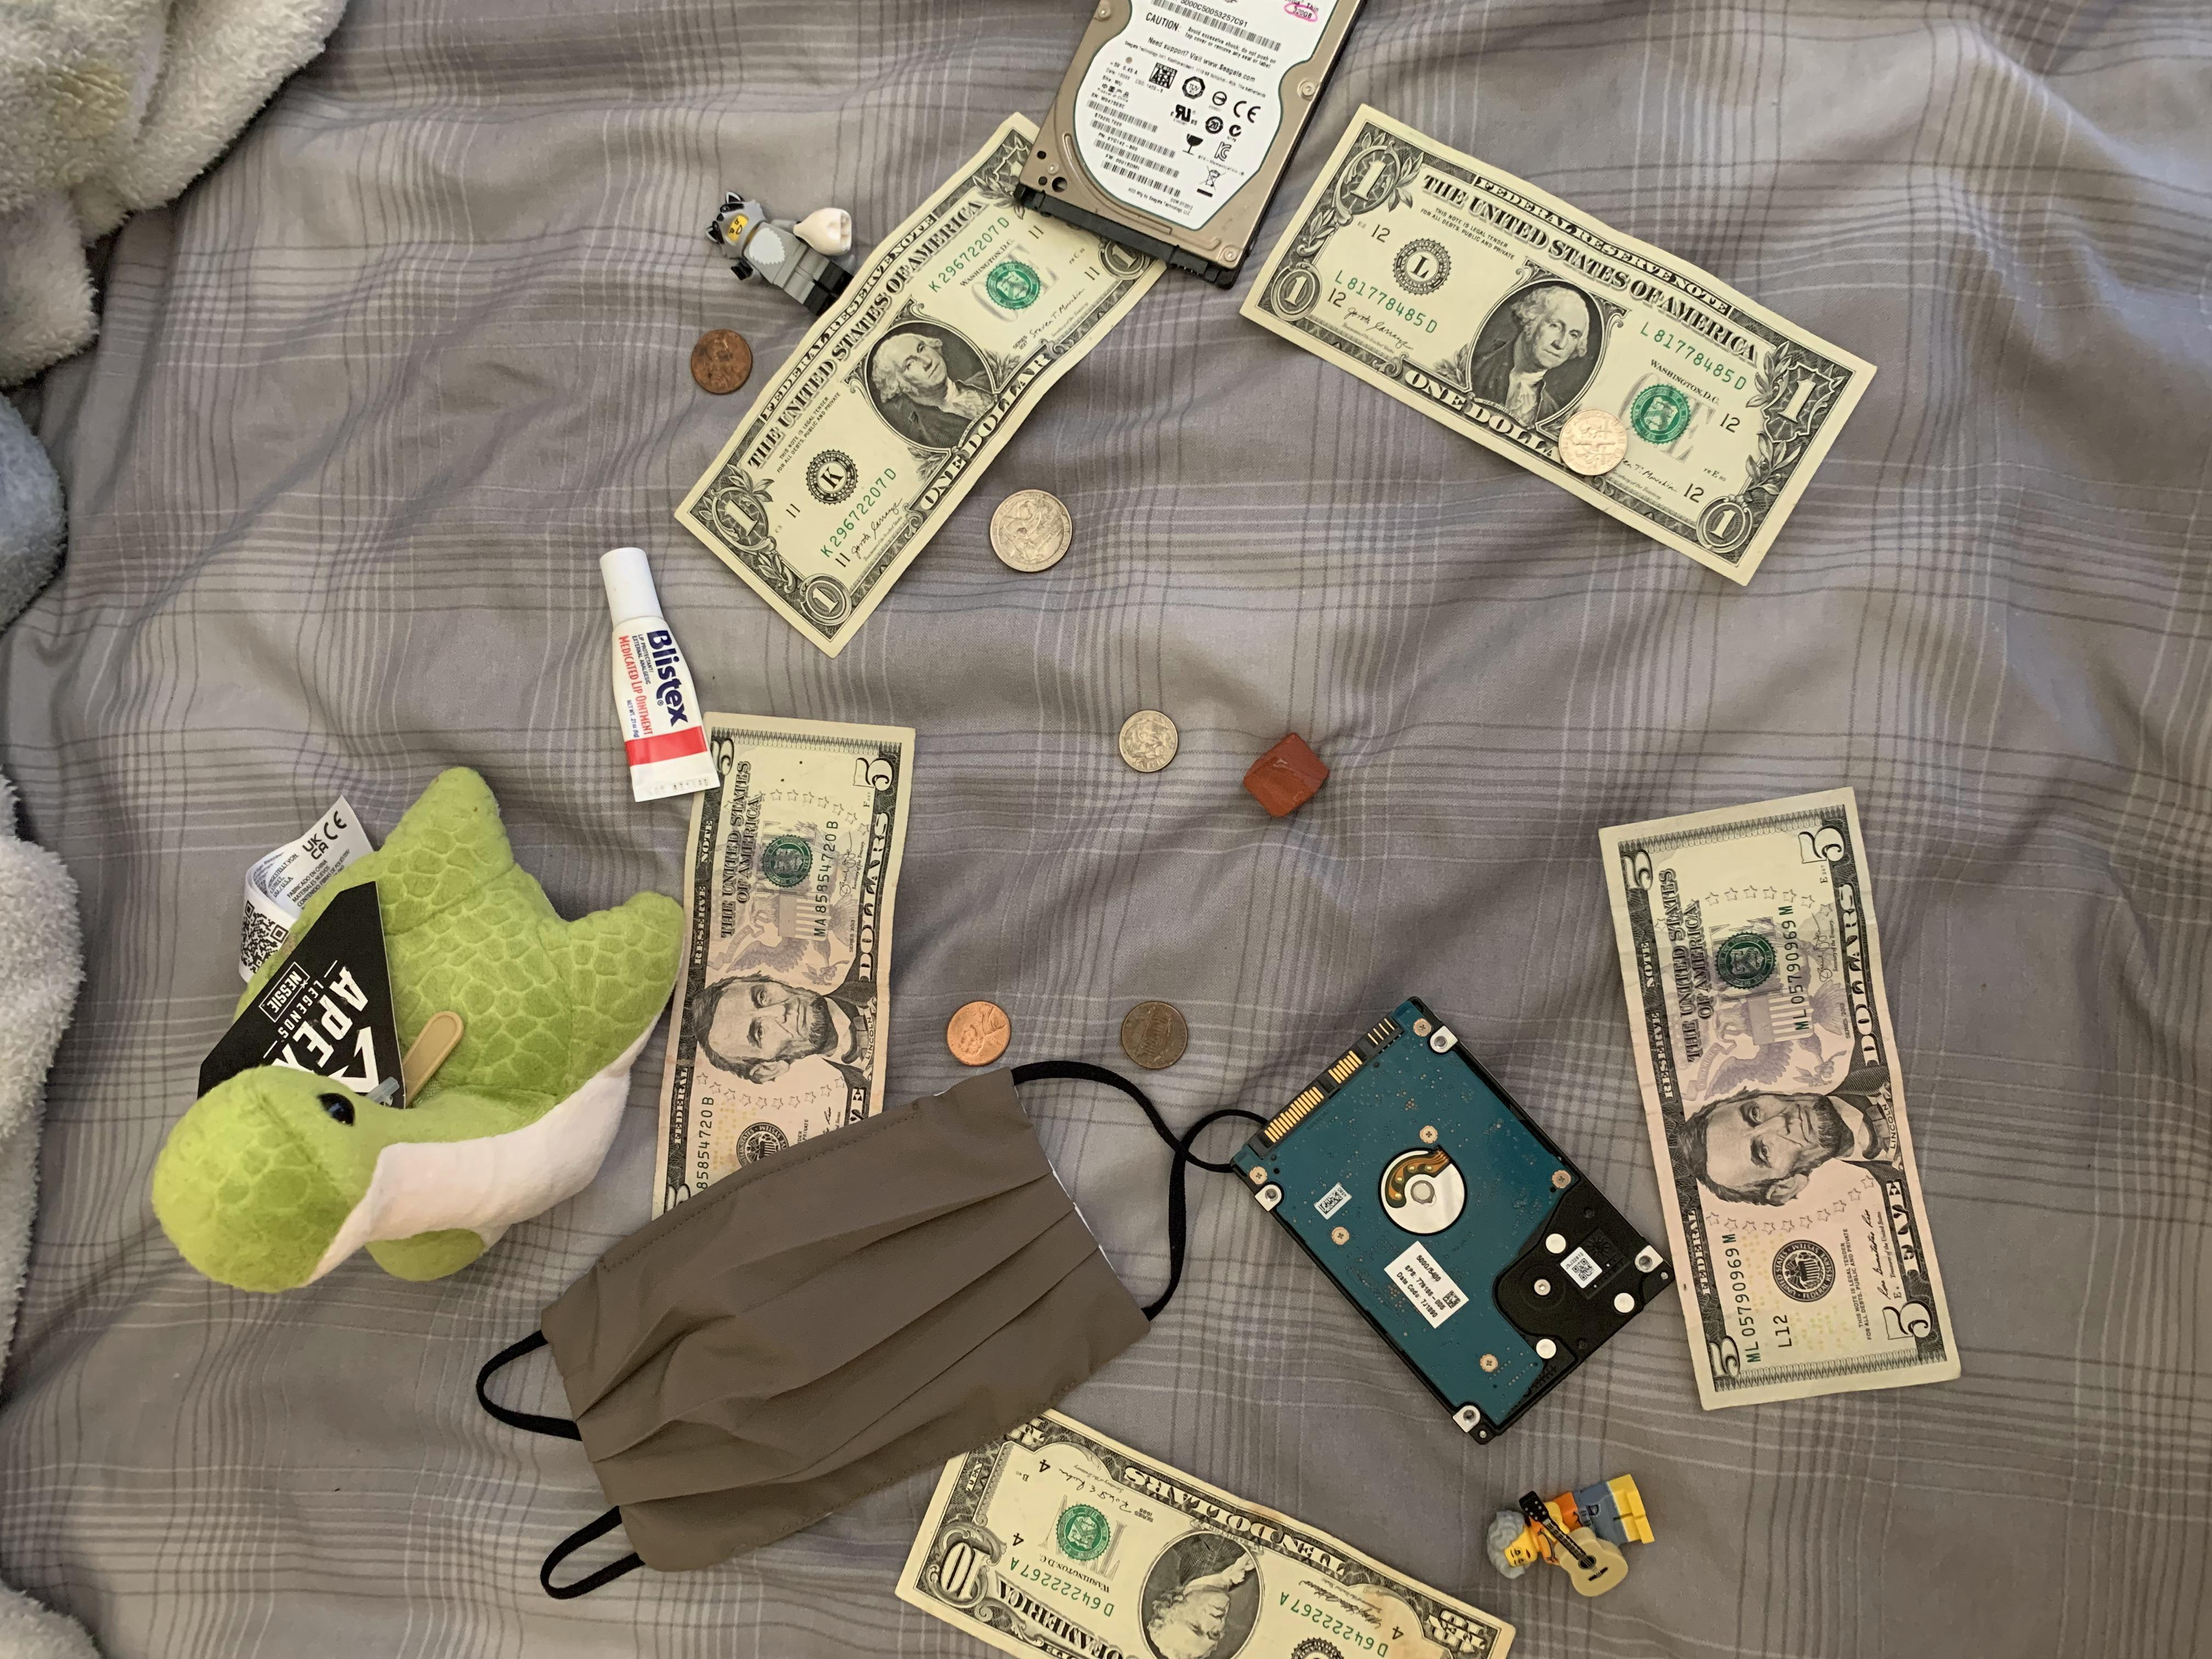Dime: (1557, 404, 1635, 474), (1116, 708, 1181, 772)
FiveBill: (1602, 781, 1958, 1413), (650, 699, 907, 1232)
OneBill: (1247, 82, 1878, 587), (671, 117, 1186, 659)
Penny: (942, 997, 1014, 1075), (1120, 997, 1186, 1077), (685, 329, 752, 396)
Quarter: (984, 486, 1078, 575)
TenBill: (897, 1399, 1515, 1656)
